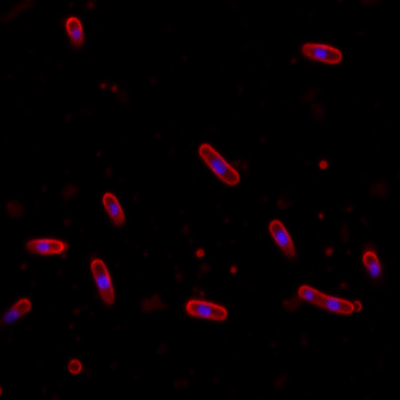CAM: (199, 142, 240, 187), (299, 284, 355, 315), (185, 299, 227, 321)
Oblique: (88, 258, 115, 306), (300, 41, 343, 66), (268, 218, 295, 256), (100, 191, 124, 226), (5, 297, 32, 326), (24, 238, 66, 255), (65, 16, 84, 47)
Vesicle: (66, 358, 82, 375), (194, 247, 206, 259), (318, 159, 329, 170), (228, 265, 239, 275)
